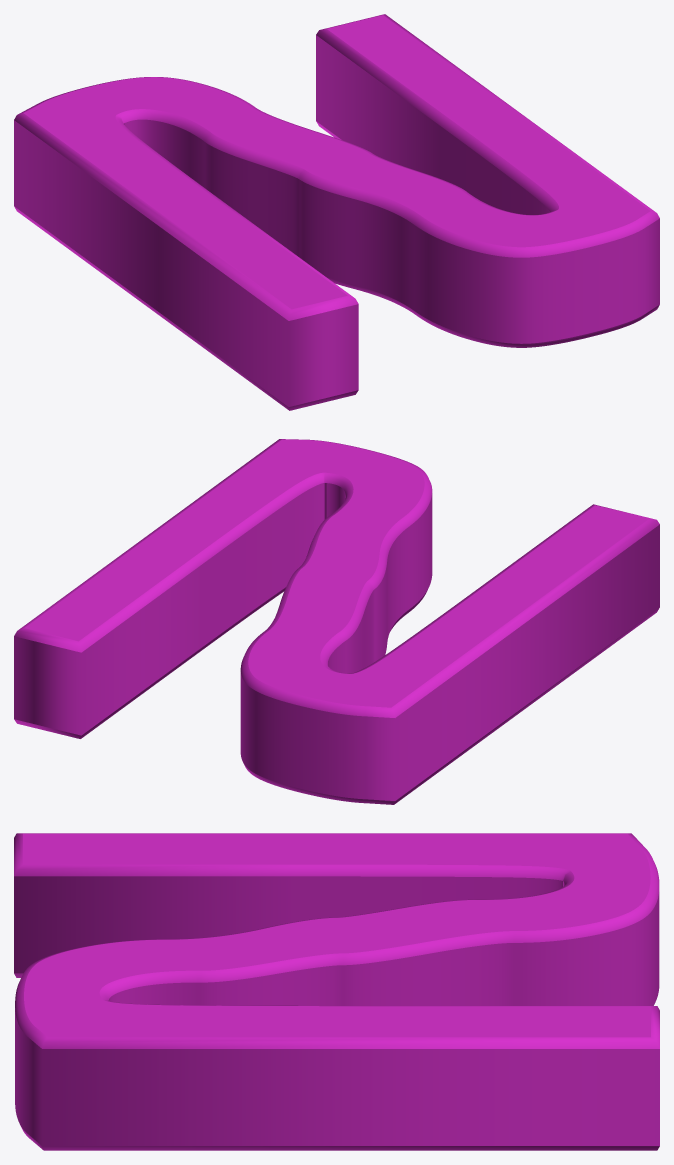
File: Letter_N_Capital_CoolFont.fbx
3 views of the same model, one above another, from view 1: azimuth 30°, elevation 25°; view 2: azimuth 150°, elevation 25°; view 3: azimuth 270°, elevation 25° (orthographic). The views are drawn at different scales.
Visible parts, largest first — view 1: Letter_N; view 2: Letter_N; view 3: Letter_N.
Part boxes in pixels (left/top/right/bottom): Letter_N: left=14, top=14, right=659, bottom=410; Letter_N: left=14, top=439, right=659, bottom=804; Letter_N: left=14, top=833, right=659, bottom=1150.
Size of the model in its own units: 0.5599 by 0.14 by 0.7241.
